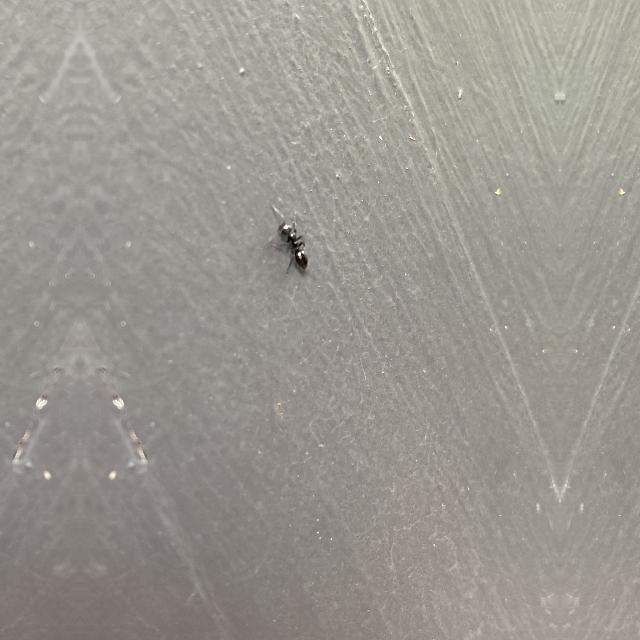Colobopsis: (270, 212, 312, 272)
